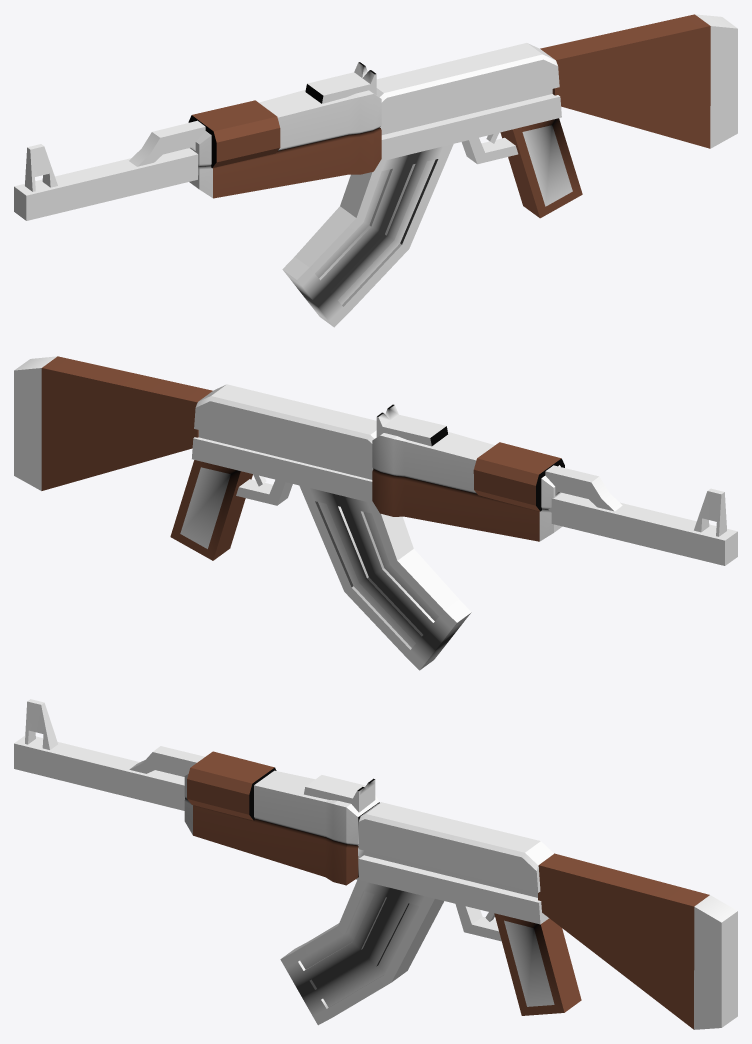
The model's file is Guns_Ak_74.fbx.
3 renders of one model, top to bottom at view 1: azimuth 30°, elevation 25°; view 2: azimuth 150°, elevation 25°; view 3: azimuth 330°, elevation 25°, orthographic.
Parts seen in each view (by area): view 1: Ak_74; view 2: Ak_74; view 3: Ak_74.
Part boxes in pixels (left/top/right/bottom): Ak_74: left=14, top=14, right=737, bottom=327; Ak_74: left=14, top=356, right=737, bottom=670; Ak_74: left=14, top=699, right=737, bottom=1029.
Size of the model in its own units: 188 by 61.99 by 13.39.
